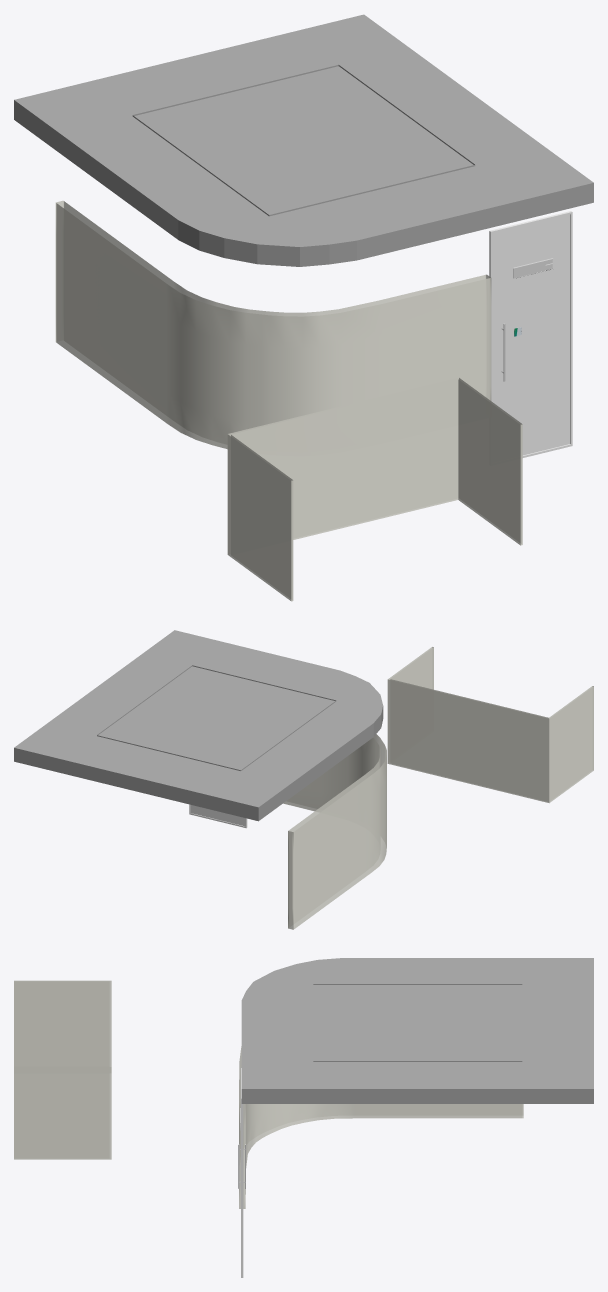
Rendered from VCroom.fbx.
3 views of the same model, one above another, from view 1: azimuth 30°, elevation 25°; view 2: azimuth 150°, elevation 25°; view 3: azimuth 270°, elevation 25° (orthographic). The views are drawn at different scales.
Visible parts, largest first — view 1: ceiling_border, glass_middle, glass_top, glass_m, glass_TB, cabin_animate_door_3; view 2: ceiling_border, glass_m, glass_TB, glass_middle, glass_top, cabin_animate_door_3; view 3: ceiling_border, glass_m, glass_TB, glass_top, glass_middle, cabin_animate_door_3.
Part boxes in pixels (left/top/right/bottom): ceiling_border: left=14, top=14, right=593, bottom=266; glass_middle: left=55, top=234, right=491, bottom=424; glass_top: left=55, top=200, right=491, bottom=449; glass_m: left=227, top=407, right=522, bottom=572; glass_TB: left=227, top=377, right=522, bottom=601; cabin_animate_door_3: left=489, top=211, right=572, bottom=457; ceiling_border: left=14, top=630, right=383, bottom=821; glass_m: left=387, top=667, right=593, bottom=782; glass_TB: left=387, top=647, right=593, bottom=803; glass_middle: left=288, top=749, right=386, bottom=908; glass_top: left=283, top=734, right=386, bottom=929; cabin_animate_door_3: left=189, top=804, right=247, bottom=828; ceiling_border: left=241, top=958, right=593, bottom=1103; glass_m: left=14, top=1002, right=111, bottom=1137; glass_TB: left=14, top=980, right=111, bottom=1159; glass_top: left=239, top=1046, right=523, bottom=1208; glass_middle: left=239, top=1075, right=285, bottom=1185; cabin_animate_door_3: left=238, top=1068, right=245, bottom=1277.
Size of the model in its own units: 545 by 299 by 792.
Materials: 6 (1 with a texture image).
